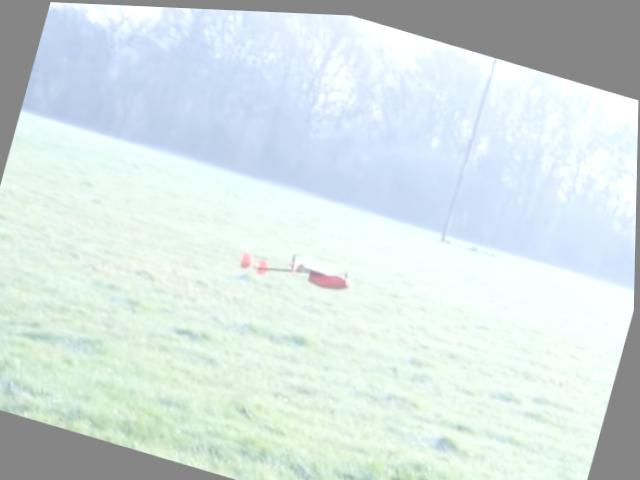uav: (227, 213, 371, 322)
